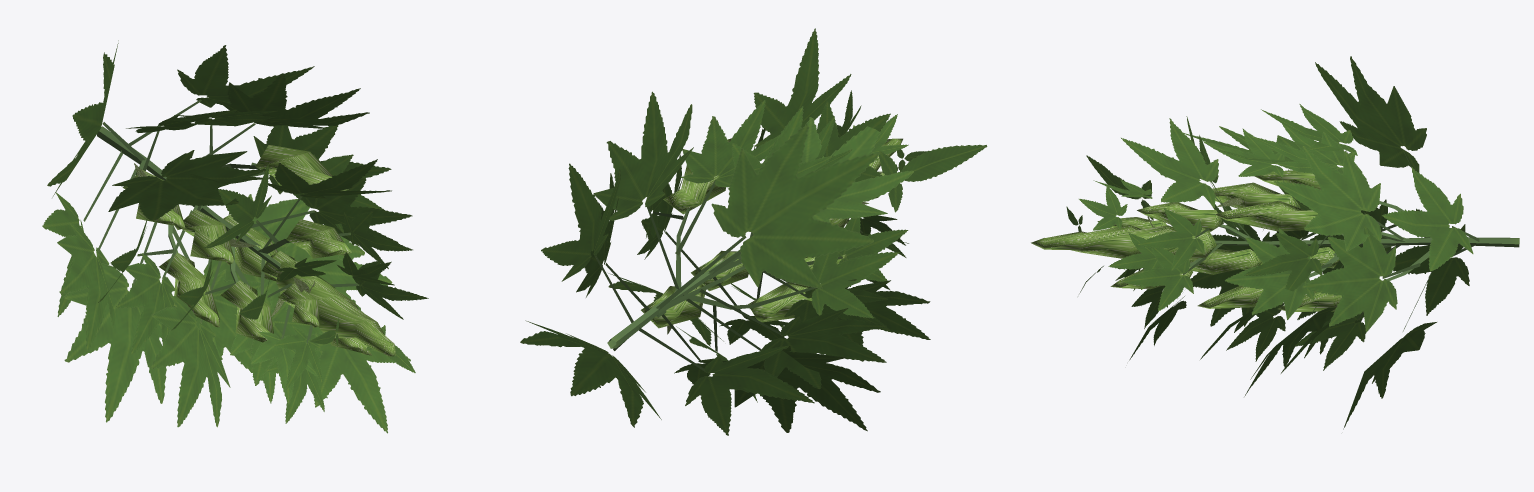
File: p_hybrid_flowering_c0_cards.obj
3 views of the same model, side by side, from view 1: azimuth 30°, elevation 25°; view 2: azimuth 150°, elevation 25°; view 3: azimuth 270°, elevation 25° (orthographic). The views are drawn at different scales.
Size of the model in its own units: 1.28 by 1.25 by 1.5.
Materials: 1 (1 with a texture image).
